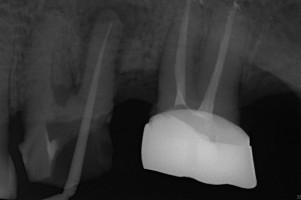Dental Caries: (65, 0, 142, 95)
